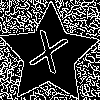X: (24, 29, 70, 84)
